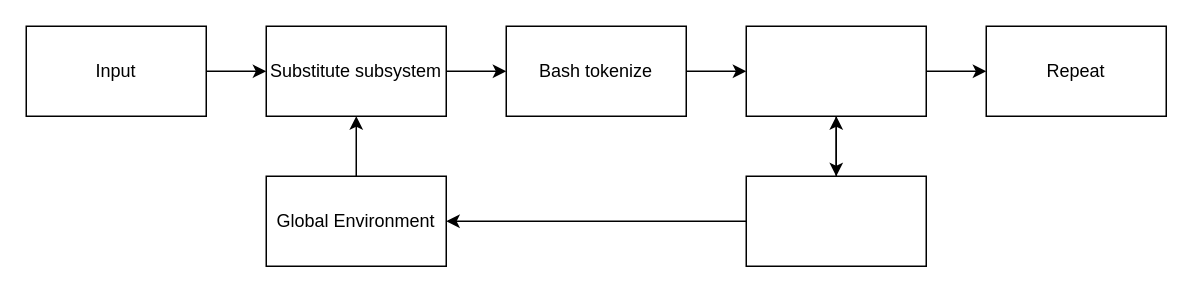
This 1193x293 diagram has some shape labels left out. Each missing label, with the centre of its shape:
"Bash builtins" belongs at point (835, 220).
"Interprete subsystem" belongs at point (835, 70).
